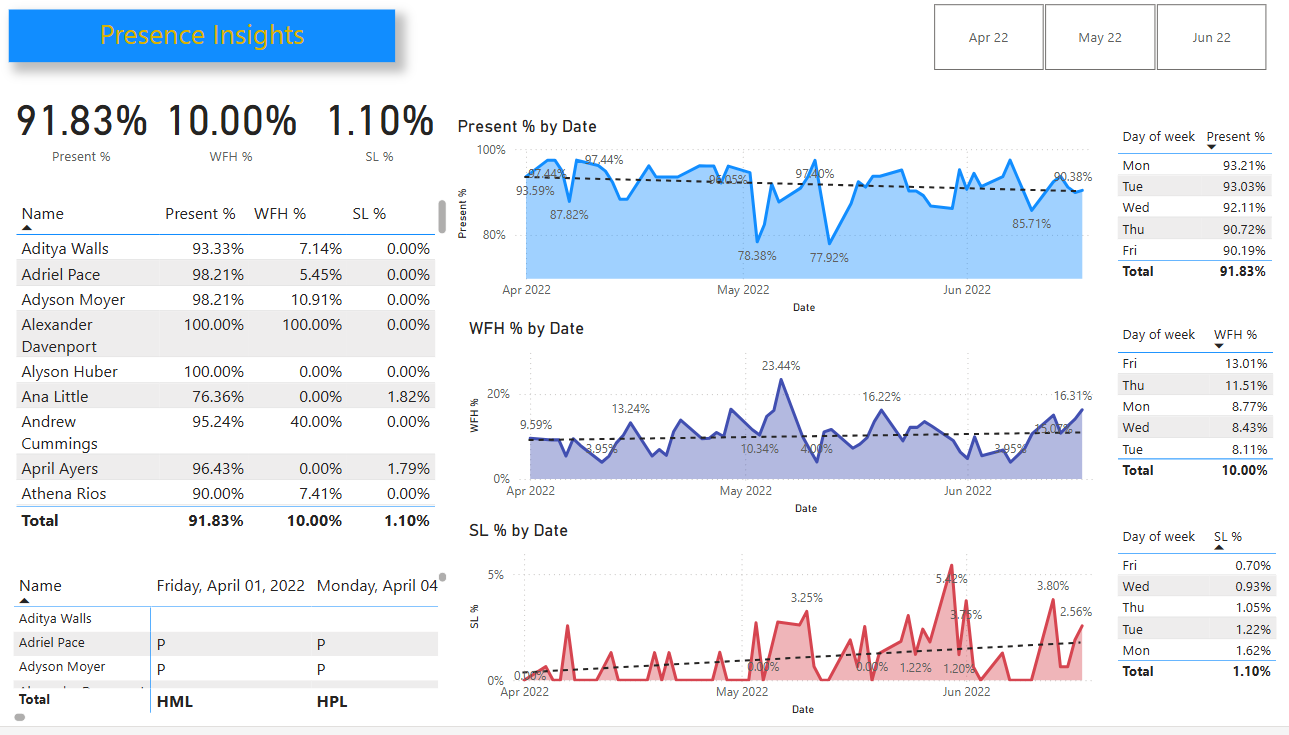

Layout of this report page (visuals, bound fields, positions):
{"tool":"powerbi","page":{"name":"Page 1","canvas":[1280,720],"ordinal":0},"visuals":[{"type":"card","fields":{"Values":["Measure Table.Present %"]},"box":[13.7,78.2,144.1,96.1],"z":0},{"type":"slicer","fields":{"Values":["Final Data.Month"]},"box":[901.2,0,378.8,78.8],"z":1000},{"type":"card","fields":{"Values":["Measure Table.WFH %"]},"box":[157.8,78.2,150.9,96.1],"z":2000},{"type":"card","fields":{"Values":["Measure Table.SL %"]},"box":[308.7,78.2,142.7,96.1],"z":3000},{"type":"tableEx","fields":{"Values":["Final Data.Name","Measure Table.Present %","Measure Table.WFH %","Measure Table.SL %"]},"box":[15,195,436.2,337.5],"z":4000},{"type":"textbox","box":[13.7,12.3,381.5,52.1],"z":5000},{"type":"pivotTable","fields":{"Rows":["Final Data.Name"],"Values":["Min(Final Data.Value)"],"Columns":["Final Data.Date"]},"box":[13.7,562.6,437.7,157.8],"z":6000},{"type":"areaChart","fields":{"Category":["Final Data.Date"],"Y":["Measure Table.Present %"]},"box":[451.2,117.5,651.2,200],"z":7000},{"type":"areaChart","fields":{"Category":["Final Data.Date"],"Y":["Measure Table.WFH %"]},"box":[462.5,317.5,640,198.8],"z":8000},{"type":"areaChart","fields":{"Category":["Final Data.Date"],"Y":["Measure Table.SL %"]},"box":[462.5,516.2,640,198.8],"z":9000},{"type":"tableEx","fields":{"Values":["Final Data.Day of week","Measure Table.Present %"]},"box":[1102.5,121.2,177.5,171.2],"z":10000},{"type":"tableEx","fields":{"Values":["Final Data.Day of week","Measure Table.WFH %"]},"box":[1102.5,317.5,177.5,173.8],"z":11000},{"type":"tableEx","fields":{"Values":["Final Data.Day of week","Measure Table.SL %"]},"box":[1102.5,516.2,177.5,167.5],"z":12000}]}

Visuals, with their boxes in screenshot pixels (x1, y1, x2, y2), scaled from the page's 1280x720 canvas onto the 1289x735 screenshot:
card - Measure Table.Present %: l=14, t=80, r=159, b=178
slicer - Final Data.Month: l=908, t=0, r=1288, b=80
card - Measure Table.WFH %: l=159, t=80, r=311, b=178
card - Measure Table.SL %: l=311, t=80, r=455, b=178
tableEx - Final Data.Name x Measure Table.Present %: l=15, t=199, r=454, b=544
textbox: l=14, t=13, r=398, b=66
pivotTable - Final Data.Name x Min(Final Data.Value): l=14, t=574, r=455, b=734
areaChart - Final Data.Date x Measure Table.Present %: l=454, t=120, r=1110, b=324
areaChart - Final Data.Date x Measure Table.WFH %: l=466, t=324, r=1110, b=527
areaChart - Final Data.Date x Measure Table.SL %: l=466, t=527, r=1110, b=730
tableEx - Final Data.Day of week x Measure Table.Present %: l=1110, t=124, r=1288, b=298
tableEx - Final Data.Day of week x Measure Table.WFH %: l=1110, t=324, r=1288, b=502
tableEx - Final Data.Day of week x Measure Table.SL %: l=1110, t=527, r=1288, b=698
